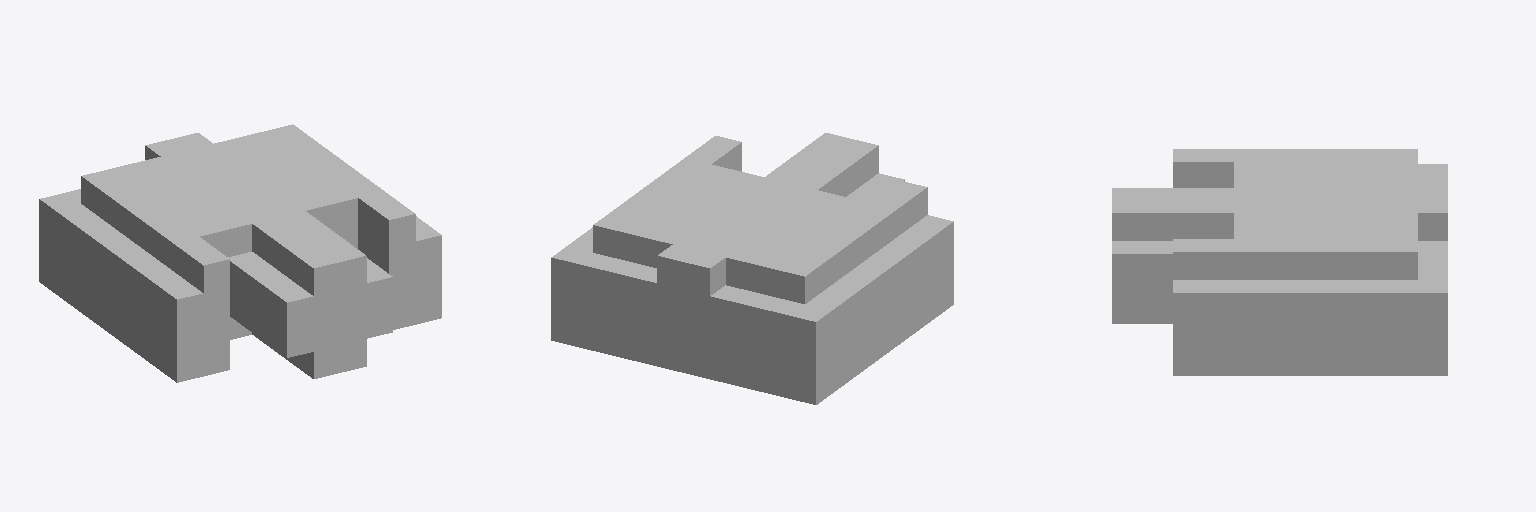
The model's file is Turret.obj.
3 views of the same model, side by side, from view 1: azimuth 30°, elevation 25°; view 2: azimuth 150°, elevation 25°; view 3: azimuth 270°, elevation 25° (orthographic).
Visible parts, largest first — view 1: Turret; view 2: Turret; view 3: Turret.
Boxes of the visible parts, x1,y1,x2,y2 form: Turret: [39, 124, 441, 382]; Turret: [551, 133, 953, 404]; Turret: [1112, 149, 1447, 375].
Size of the model in its own units: 1 by 0.4 by 1.1.